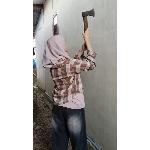Kapak: (79, 8, 99, 44)
